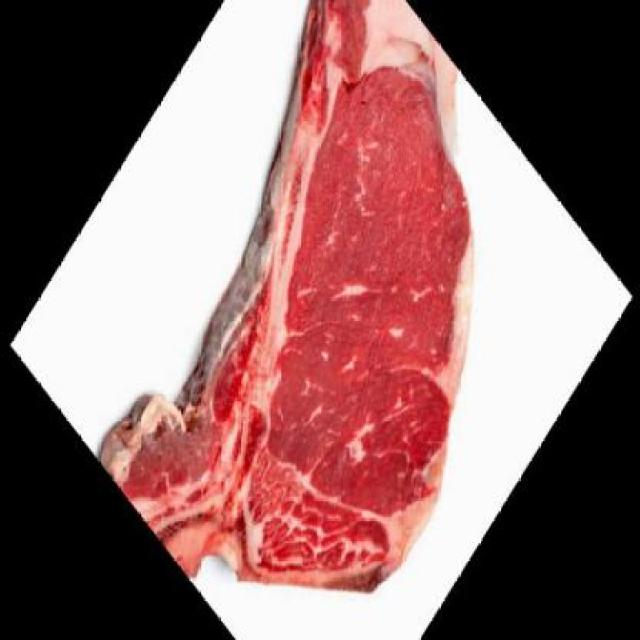beef: (87, 0, 484, 640)
